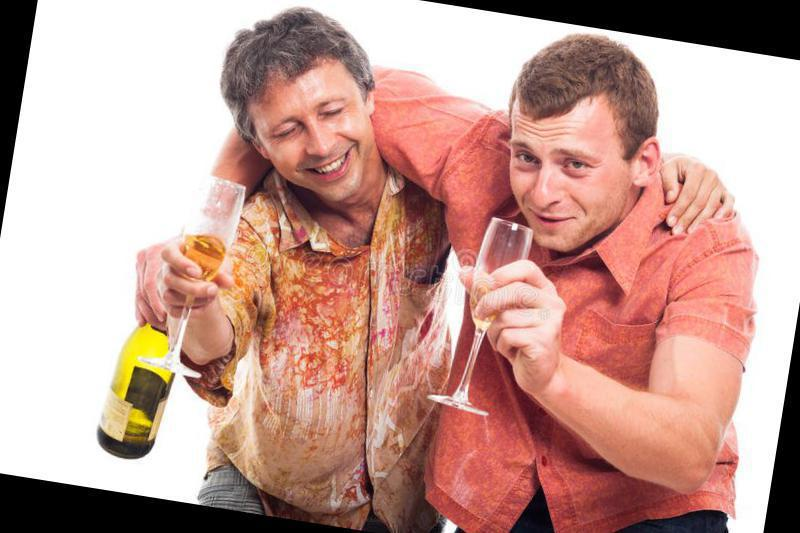Drunk: (508, 99, 621, 247), (252, 72, 371, 197)
